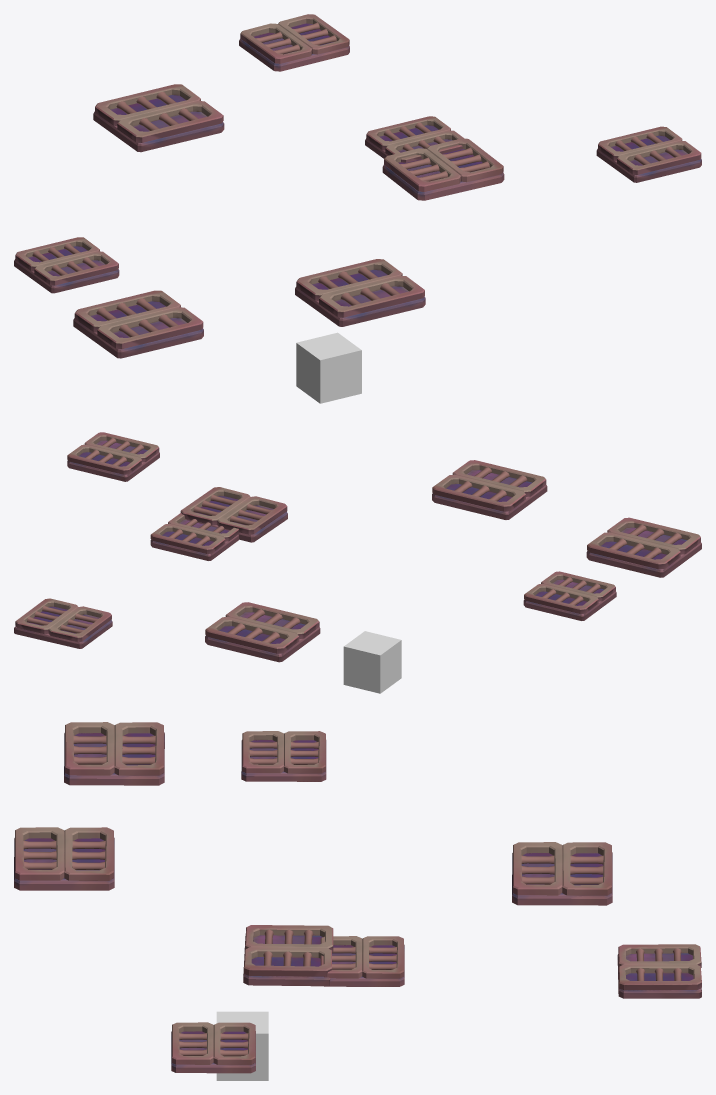
Rendered from battlescence-3-floor004.fbx.
The picture shows the model from 3 angles, top to bottom: view 1: azimuth 30°, elevation 25°; view 2: azimuth 150°, elevation 25°; view 3: azimuth 270°, elevation 25°; orthographic projection. The views are drawn at different scales.
Visible parts, largest first — view 1: Cube.083, Cube.079, Cube.086, Cube.070, Cube.011, Cube.077, Cube.081, battlescence-3-floor004, Cube.071; view 2: Cube.086, Cube.079, Cube.083, Cube.070, Cube.011, Cube.081, Cube.077, battlescence-3-floor004, Cube.071; view 3: Cube.079, Cube.083, Cube.086, Cube.070, Cube.011, Cube.077, Cube.081, Cube.071, battlescence-3-floor004.
Part boxes in pixels (x1=…): Cube.083: x1=73, y1=290, x2=203, y2=358; Cube.079: x1=93, y1=84, x2=224, y2=152; Cube.086: x1=295, y1=259, x2=425, y2=326; Cube.070: x1=382, y1=138, x2=504, y2=200; Cube.011: x1=239, y1=14, x2=349, y2=71; Cube.077: x1=14, y1=237, x2=119, y2=293; Cube.081: x1=596, y1=126, x2=701, y2=182; battlescence-3-floor004: x1=296, y1=332, x2=361, y2=403; Cube.071: x1=365, y1=116, x2=464, y2=162; Cube.086: x1=432, y1=460, x2=547, y2=519; Cube.079: x1=205, y1=602, x2=320, y2=662; Cube.083: x1=586, y1=517, x2=701, y2=577; Cube.070: x1=180, y1=487, x2=287, y2=542; Cube.011: x1=14, y1=598, x2=112, y2=648; Cube.081: x1=67, y1=432, x2=159, y2=481; Cube.077: x1=523, y1=571, x2=616, y2=620; battlescence-3-floor004: x1=343, y1=631, x2=401, y2=693; Cube.071: x1=150, y1=513, x2=239, y2=560; Cube.079: x1=512, y1=842, x2=612, y2=905; Cube.083: x1=64, y1=722, x2=164, y2=785; Cube.086: x1=14, y1=827, x2=114, y2=890; Cube.070: x1=243, y1=925, x2=333, y2=986; Cube.011: x1=617, y1=944, x2=701, y2=998; Cube.077: x1=241, y1=731, x2=326, y2=781; Cube.081: x1=171, y1=1022, x2=255, y2=1073; Cube.071: x1=320, y1=936, x2=404, y2=986; battlescence-3-floor004: x1=216, y1=1011, x2=268, y2=1080.
Size of the model in its own units: 2390 by 644 by 2063.
